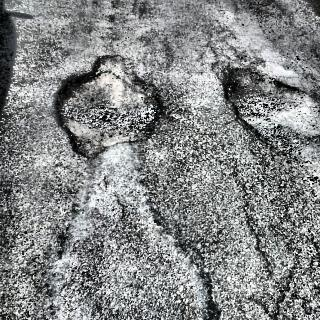pothole: (49, 52, 168, 165), (221, 61, 320, 171)
